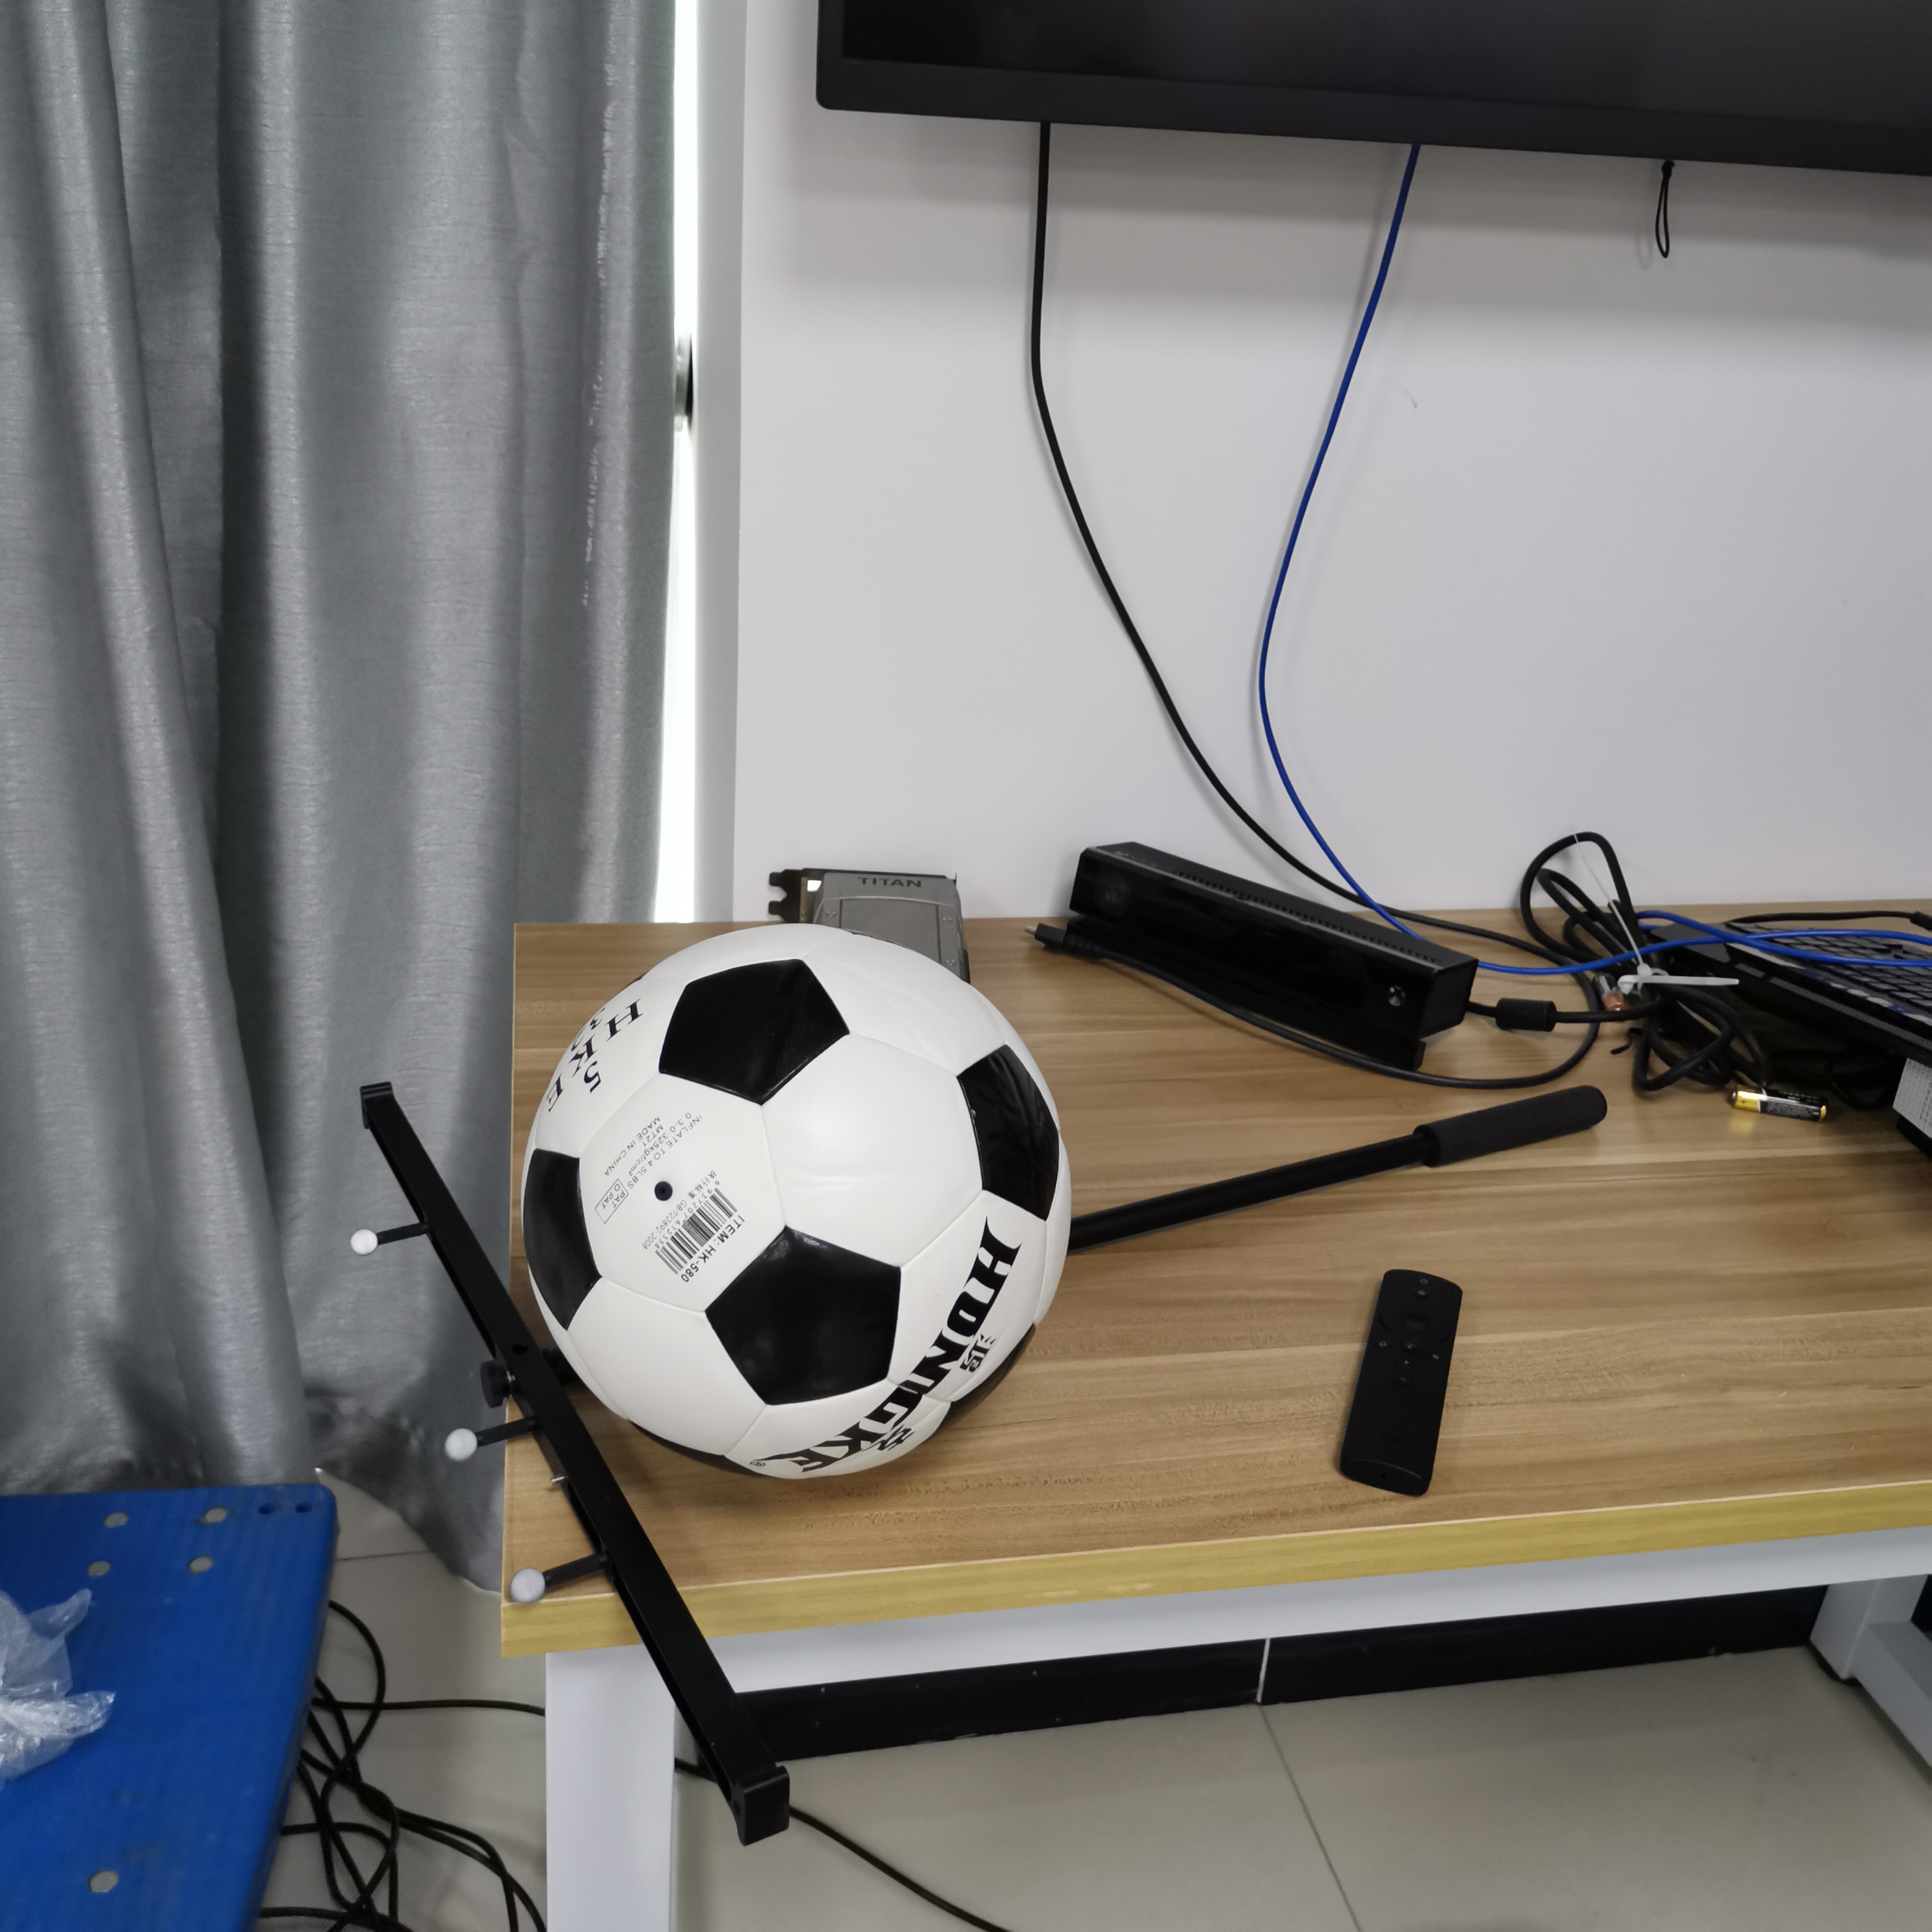football: (525, 920, 1074, 1477)
